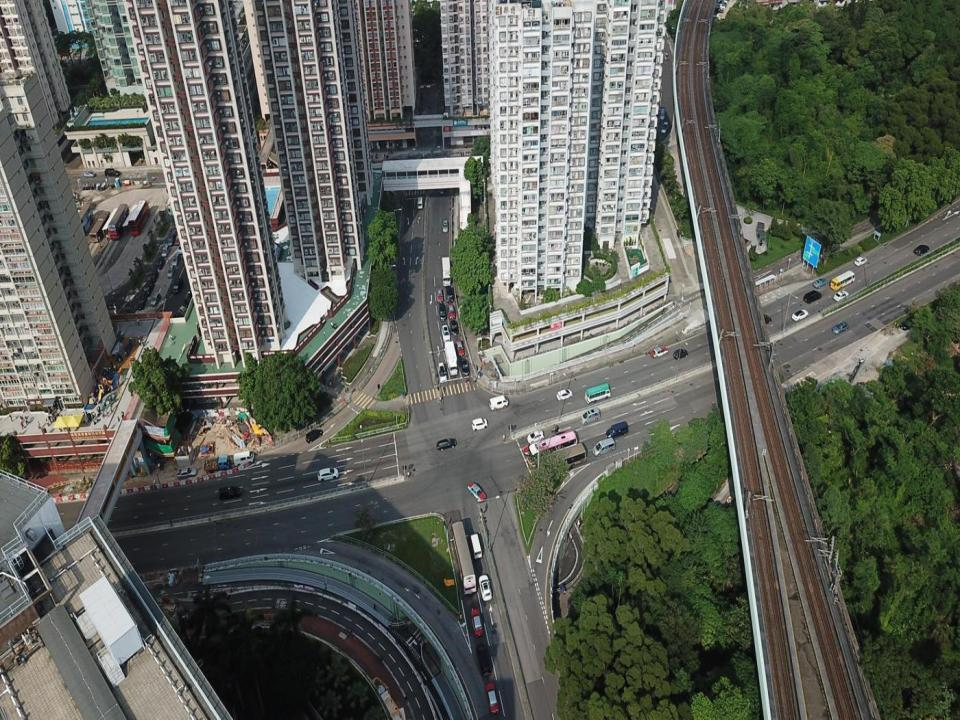bus: (450, 520, 476, 596), (527, 430, 577, 469), (534, 442, 586, 478), (127, 198, 151, 237), (107, 203, 130, 241), (89, 210, 111, 243), (584, 383, 611, 405), (829, 270, 856, 292)
car: (476, 642, 493, 676), (484, 682, 501, 714), (579, 406, 601, 425), (218, 484, 242, 501), (467, 481, 486, 502), (471, 608, 484, 638), (478, 574, 492, 601), (317, 466, 339, 482), (441, 257, 452, 287), (436, 437, 458, 451), (176, 466, 198, 480), (304, 428, 323, 444), (523, 440, 541, 456), (831, 320, 850, 335), (803, 289, 822, 304), (526, 429, 544, 444), (791, 307, 809, 322), (899, 315, 915, 331), (650, 345, 668, 359), (142, 279, 155, 298), (471, 417, 488, 431), (914, 243, 931, 257), (832, 289, 850, 302), (672, 347, 688, 361), (556, 388, 573, 401), (172, 277, 184, 295), (437, 362, 447, 383), (757, 313, 772, 327), (811, 277, 828, 289), (460, 357, 470, 376), (441, 324, 451, 343), (136, 295, 147, 312), (170, 252, 182, 267), (853, 255, 868, 267), (150, 291, 161, 307), (455, 339, 465, 356), (449, 319, 459, 336), (160, 243, 171, 258), (446, 303, 456, 319), (166, 263, 176, 279), (104, 167, 120, 177), (155, 255, 165, 270), (446, 285, 454, 303), (439, 302, 446, 322), (174, 232, 183, 247), (167, 232, 176, 247), (436, 286, 444, 302), (150, 268, 159, 282), (177, 240, 185, 255), (661, 121, 670, 134), (659, 106, 666, 121), (83, 170, 96, 178), (442, 219, 449, 233), (438, 184, 444, 194), (663, 51, 669, 61)
truck: (203, 454, 231, 474), (444, 341, 458, 375)
van: (592, 437, 616, 456), (605, 421, 629, 440), (468, 531, 483, 559), (233, 449, 255, 468), (488, 395, 509, 411), (417, 196, 423, 209)
